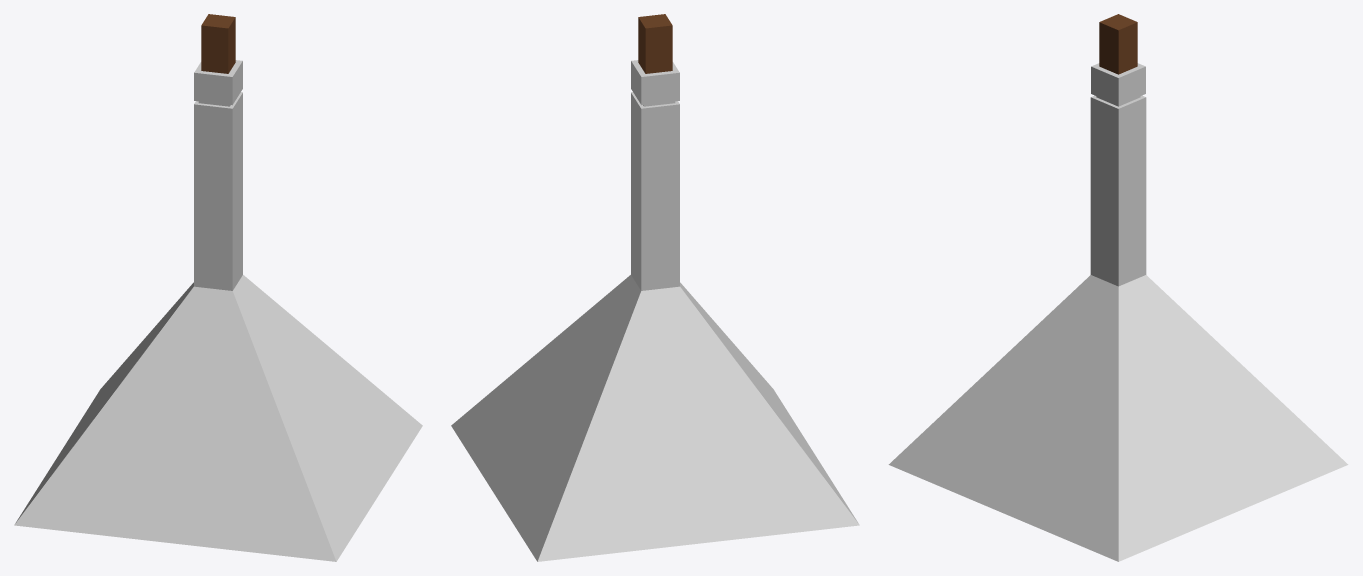
File: item_potion_2.fbx
The picture shows the model from 3 angles, left to right: view 1: azimuth 30°, elevation 25°; view 2: azimuth 150°, elevation 25°; view 3: azimuth 270°, elevation 25°; orthographic projection. The views are drawn at different scales.
Parts seen in each view (by area): view 1: ItemPotion2; view 2: ItemPotion2; view 3: ItemPotion2.
Boxes of the visible parts, x1,y1,x2,y2 form: ItemPotion2: [14, 14, 422, 561]; ItemPotion2: [451, 14, 859, 561]; ItemPotion2: [888, 14, 1348, 561].
Size of the model in its own units: 475 by 585 by 475.
